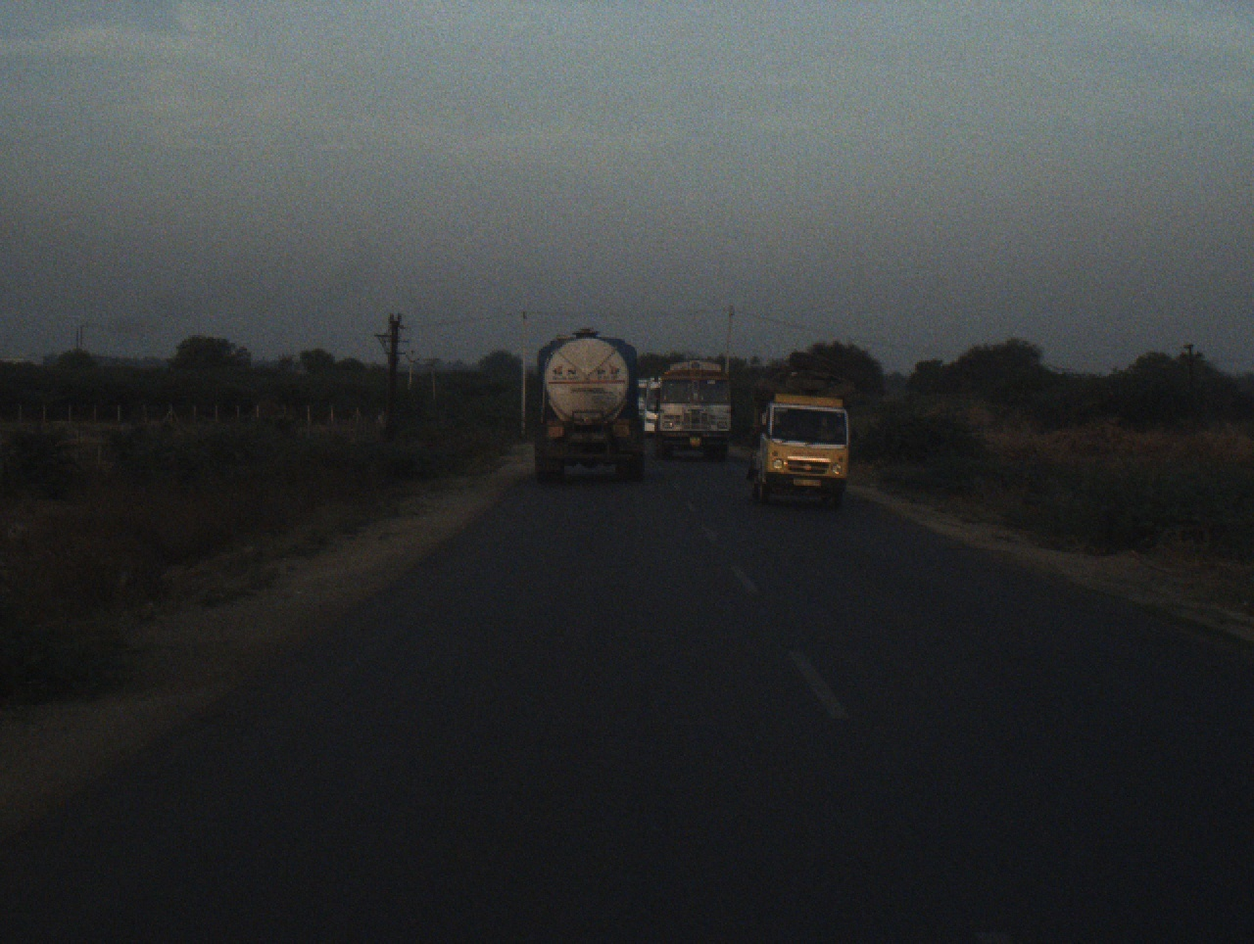bus: (642, 372, 662, 431), (637, 375, 651, 418)
truck: (524, 323, 650, 496), (751, 383, 855, 517), (652, 355, 739, 465)
